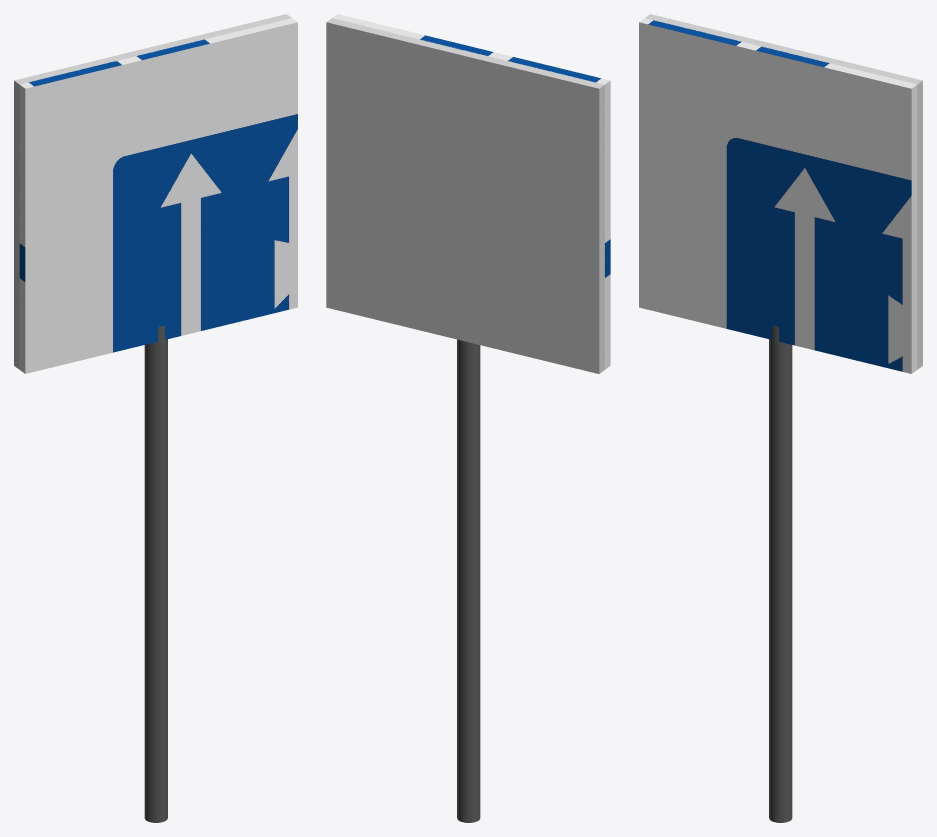
Rendered from teknofest_sign_serit_duzenleme_levhasi_sol.fbx.
3 views of the same model, side by side, from view 1: azimuth 30°, elevation 25°; view 2: azimuth 150°, elevation 25°; view 3: azimuth 330°, elevation 25° (orthographic).
Parts seen in each view (by area): view 1: teknofest_sign_serit_duzenleme_levhasi_sol_board, teknofest_sign_serit_duzenleme_levhasi_sol_pole, teknofest_sign_serit_duzenleme_levhasi_sol_back; view 2: teknofest_sign_serit_duzenleme_levhasi_sol_back, teknofest_sign_serit_duzenleme_levhasi_sol_pole, teknofest_sign_serit_duzenleme_levhasi_sol_board; view 3: teknofest_sign_serit_duzenleme_levhasi_sol_board, teknofest_sign_serit_duzenleme_levhasi_sol_pole, teknofest_sign_serit_duzenleme_levhasi_sol_back.
Part boxes in pixels (x1=…): teknofest_sign_serit_duzenleme_levhasi_sol_board: x1=19, y1=18, x2=297, y2=373; teknofest_sign_serit_duzenleme_levhasi_sol_pole: x1=144, y1=325, x2=167, y2=822; teknofest_sign_serit_duzenleme_levhasi_sol_back: x1=14, y1=14, x2=291, y2=369; teknofest_sign_serit_duzenleme_levhasi_sol_back: x1=326, y1=18, x2=604, y2=373; teknofest_sign_serit_duzenleme_levhasi_sol_pole: x1=457, y1=339, x2=480, y2=822; teknofest_sign_serit_duzenleme_levhasi_sol_board: x1=333, y1=14, x2=610, y2=369; teknofest_sign_serit_duzenleme_levhasi_sol_board: x1=639, y1=18, x2=917, y2=373; teknofest_sign_serit_duzenleme_levhasi_sol_pole: x1=769, y1=325, x2=792, y2=822; teknofest_sign_serit_duzenleme_levhasi_sol_back: x1=645, y1=14, x2=922, y2=369.
Size of the model in its own units: 95 by 255 by 7.05.
